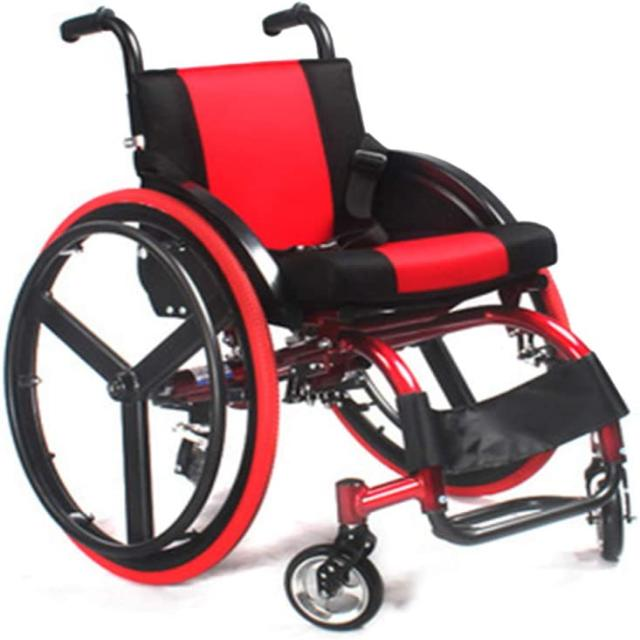wheelchairs: (15, 8, 630, 632)
